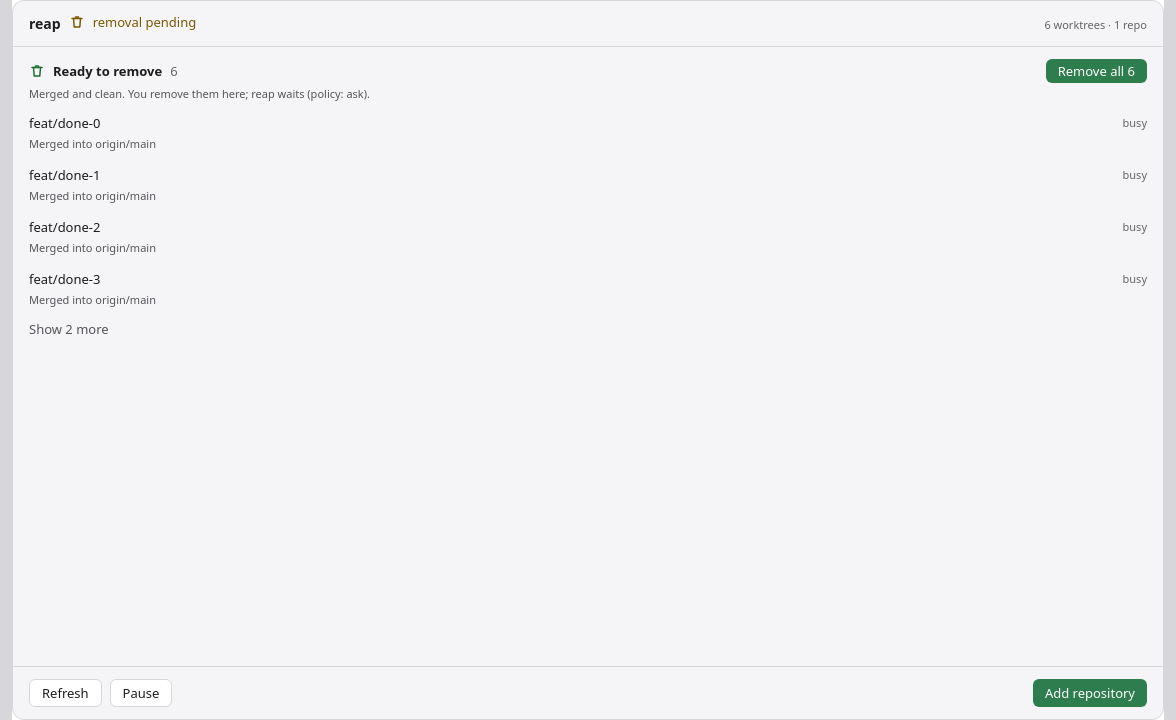
Scenario: Popover Ready to remove › removes every ready worktree, in order, after Remove all and a confirm
Click the button "Remove all 6": click(1096, 71) [1046, 59, 1147, 83]
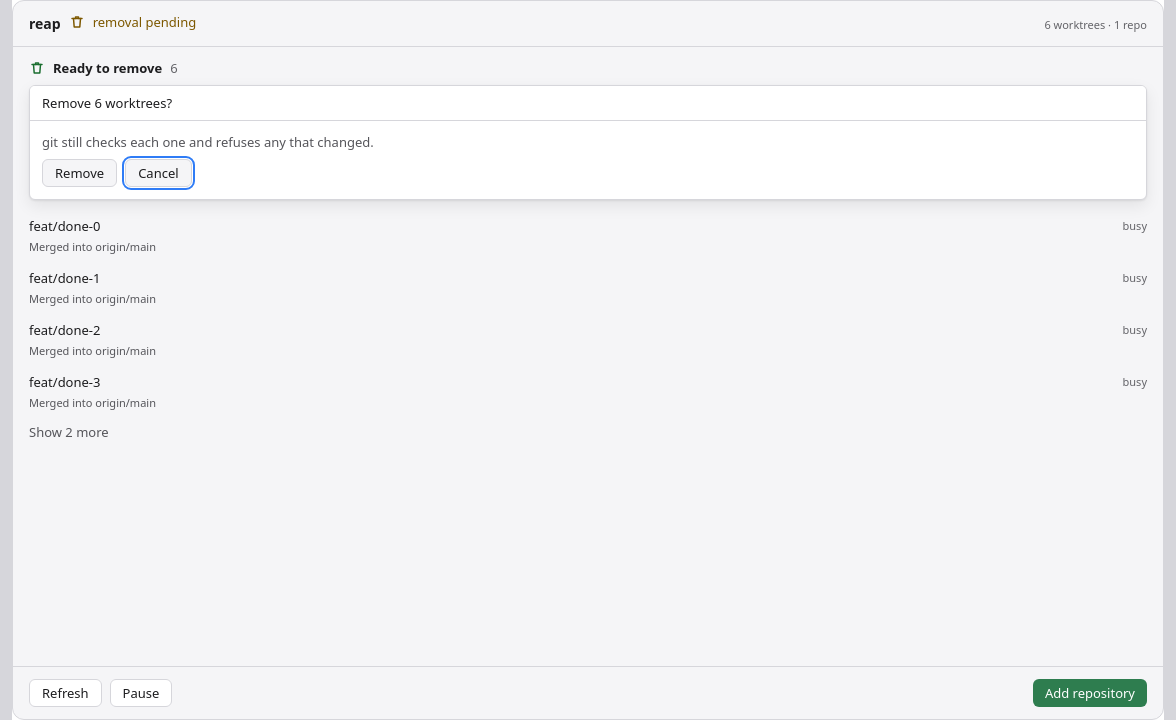
Expected: the text "Remove 6 worktrees?" is shown, [42, 94, 172, 112]
Click the button "Remove": click(80, 173) [42, 159, 117, 187]
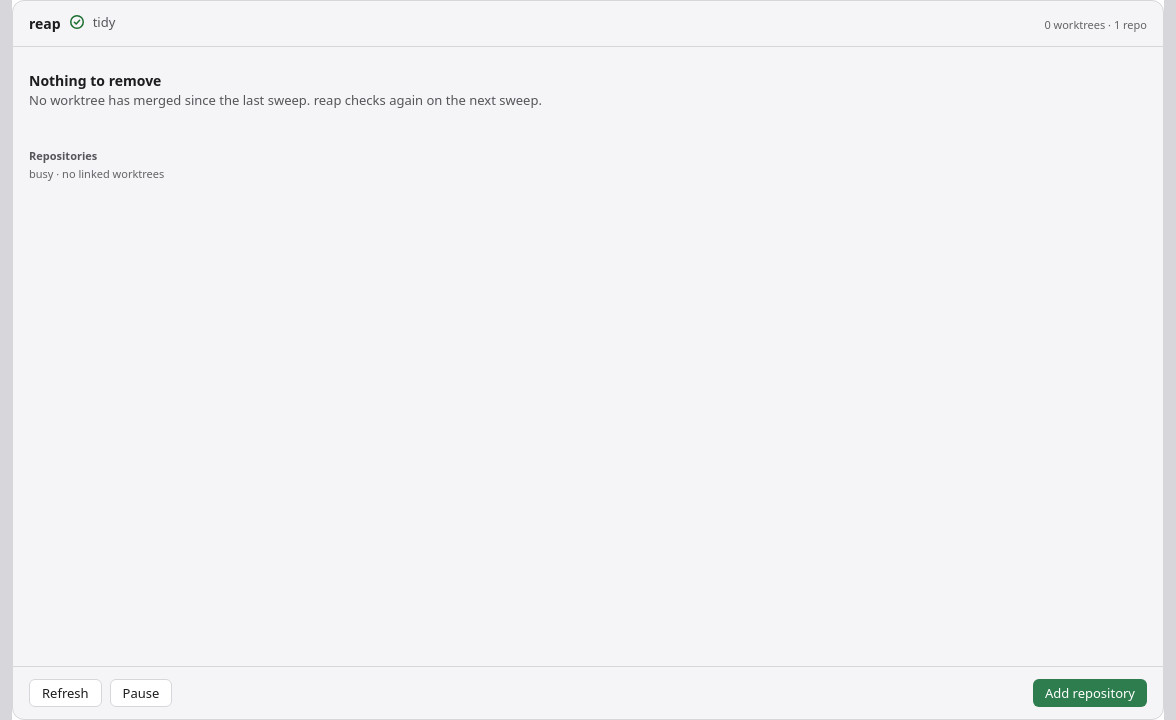
Expected: the heading "Ready to remove" is gone
